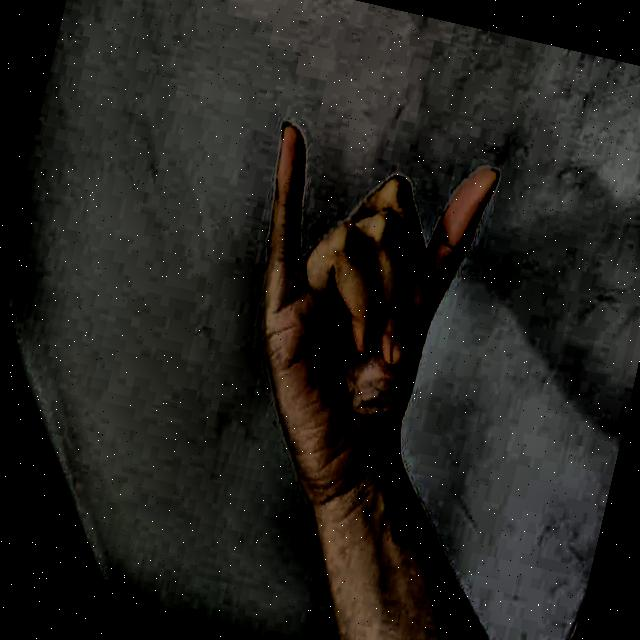Oi: (183, 75, 524, 518)
